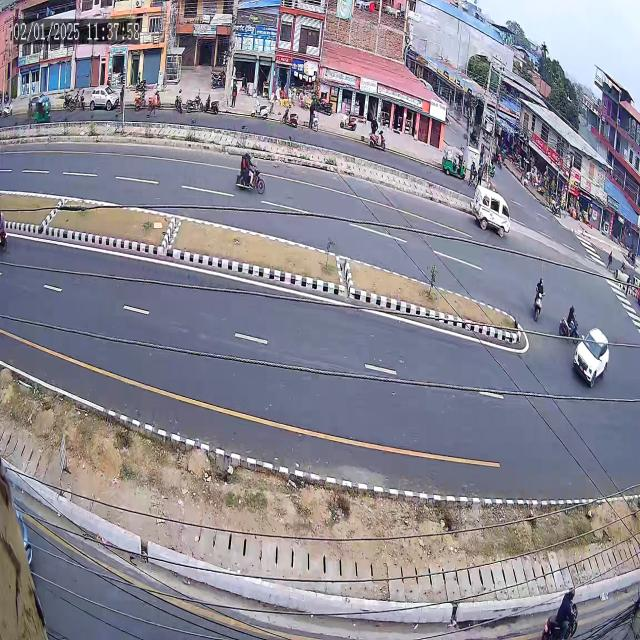car: (568, 316, 620, 394)
motorcycle: (532, 574, 581, 640), (230, 140, 263, 211), (558, 284, 578, 354), (529, 264, 548, 326)
van: (469, 183, 517, 246)
